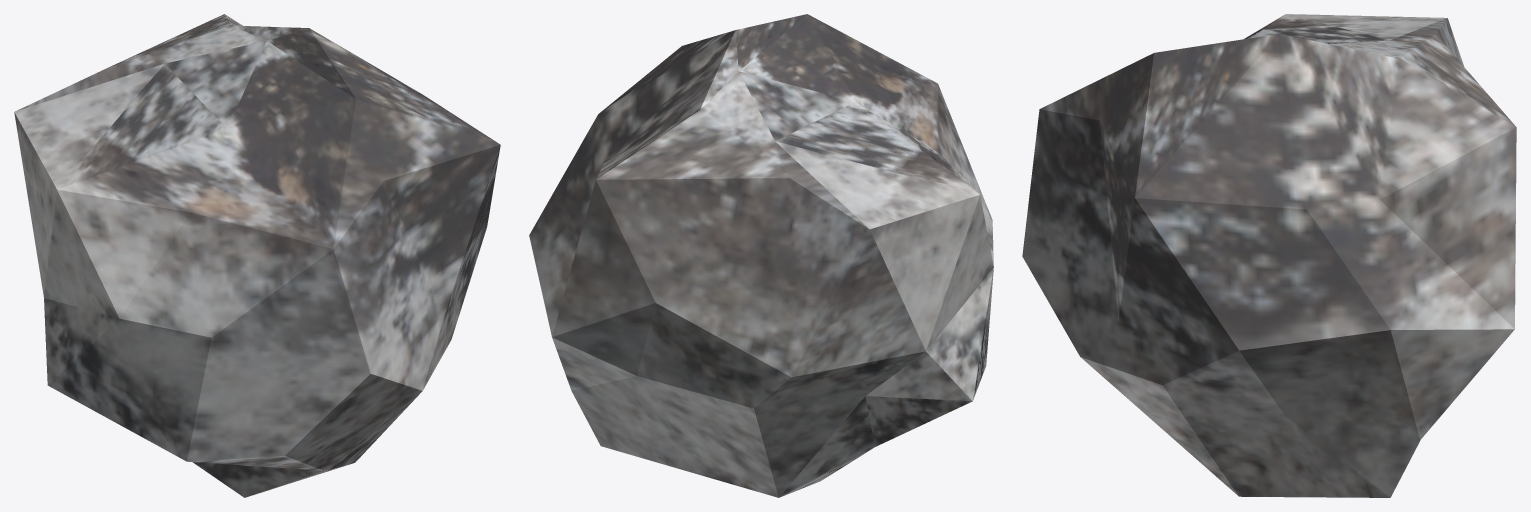
File: Asteroid_Small_004.fbx
3 views of the same model, side by side, from view 1: azimuth 30°, elevation 25°; view 2: azimuth 150°, elevation 25°; view 3: azimuth 270°, elevation 25° (orthographic). The views are drawn at different scales.
Visible parts, largest first — view 1: Asteroid_Small_004; view 2: Asteroid_Small_004; view 3: Asteroid_Small_004.
Part boxes in pixels (box(x1,y1,x2,y2)): Asteroid_Small_004: box(14, 14, 500, 497); Asteroid_Small_004: box(529, 14, 993, 497); Asteroid_Small_004: box(1022, 14, 1516, 497).
Size of the model in its own units: 13.22 by 13.15 by 13.7.
1 material, 1 textured.
